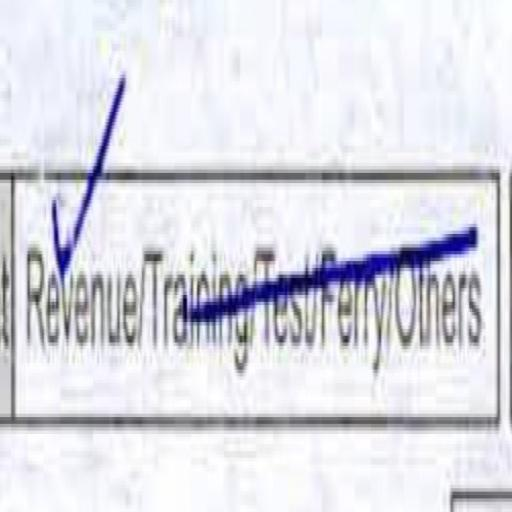check: (21, 90, 138, 436)
